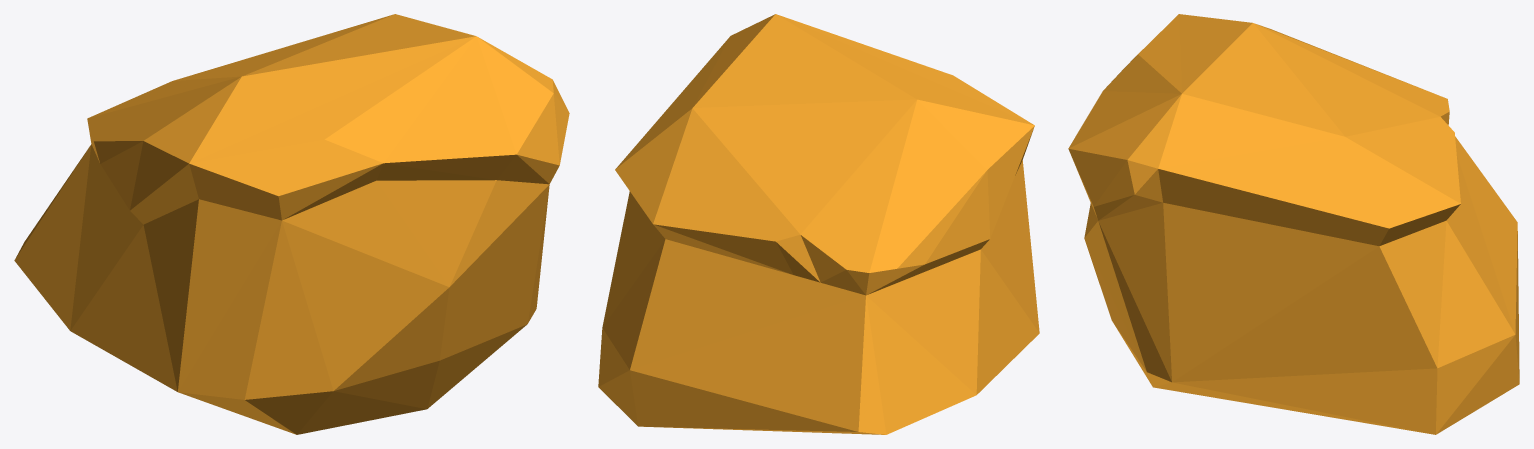
File: SM_Stone_E_Snow.fbx
The picture shows the model from 3 angles, left to right: view 1: azimuth 30°, elevation 25°; view 2: azimuth 150°, elevation 25°; view 3: azimuth 270°, elevation 25°; orthographic projection. The views are drawn at different scales.
Parts seen in each view (by area): view 1: stone-e-snow; view 2: stone-e-snow; view 3: stone-e-snow.
Part boxes in pixels (box(x1,y1,x2,y2)): stone-e-snow: box(14, 14, 569, 434); stone-e-snow: box(598, 14, 1039, 434); stone-e-snow: box(1068, 14, 1519, 434).
Bounding box in the file's own units: 0.6607 × 0.567 × 0.7177.
